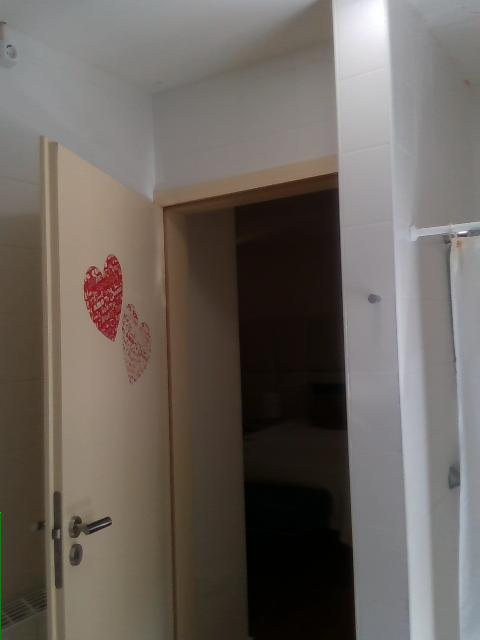open_door: (148, 153, 355, 639)
